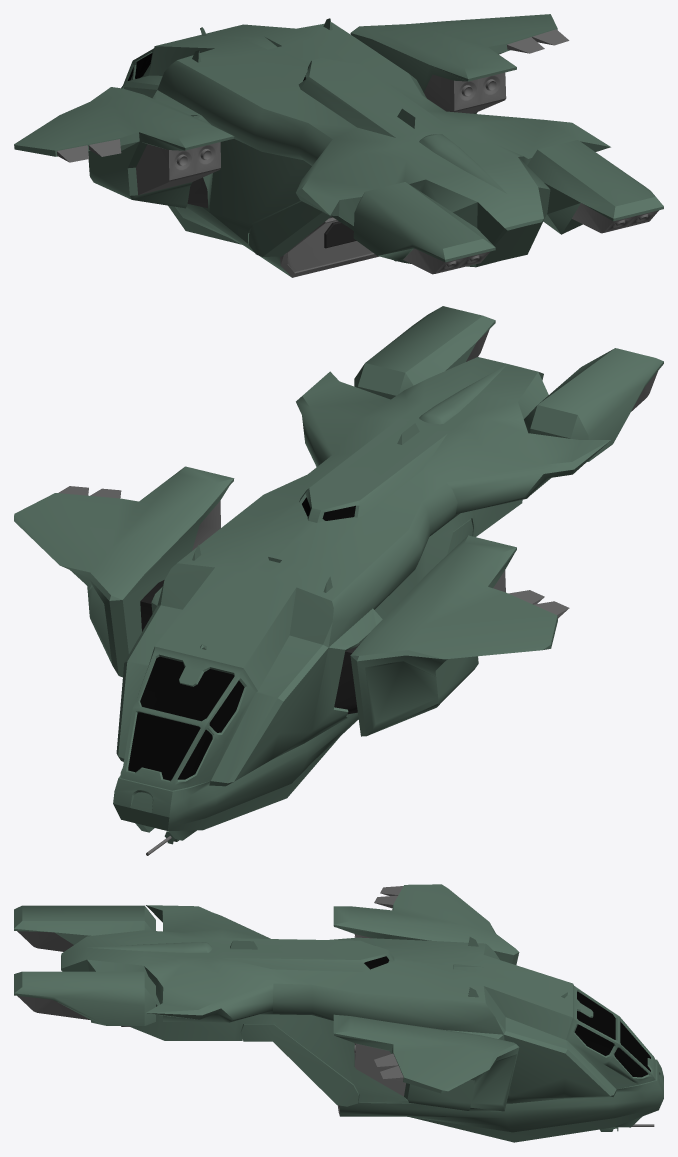
File: Pelican.obj
The picture shows the model from 3 angles, top to bottom: view 1: azimuth 30°, elevation 25°; view 2: azimuth 150°, elevation 25°; view 3: azimuth 270°, elevation 25°; orthographic projection. The views are drawn at different scales.
Visible parts, largest first — view 1: Cube; view 2: Cube; view 3: Cube.
Part boxes in pixels (x1=…): Cube: x1=14, y1=14, x2=663, y2=277; Cube: x1=14, y1=306, x2=663, y2=855; Cube: x1=14, y1=884, x2=663, y2=1142.
Size of the model in its own units: 6.71 by 2.89 by 8.95.
Materials: 1 (1 with a texture image).
